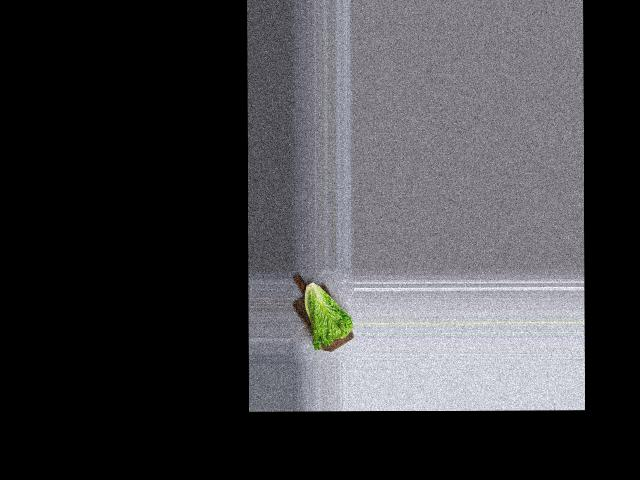lettuce: (297, 279, 352, 349)
